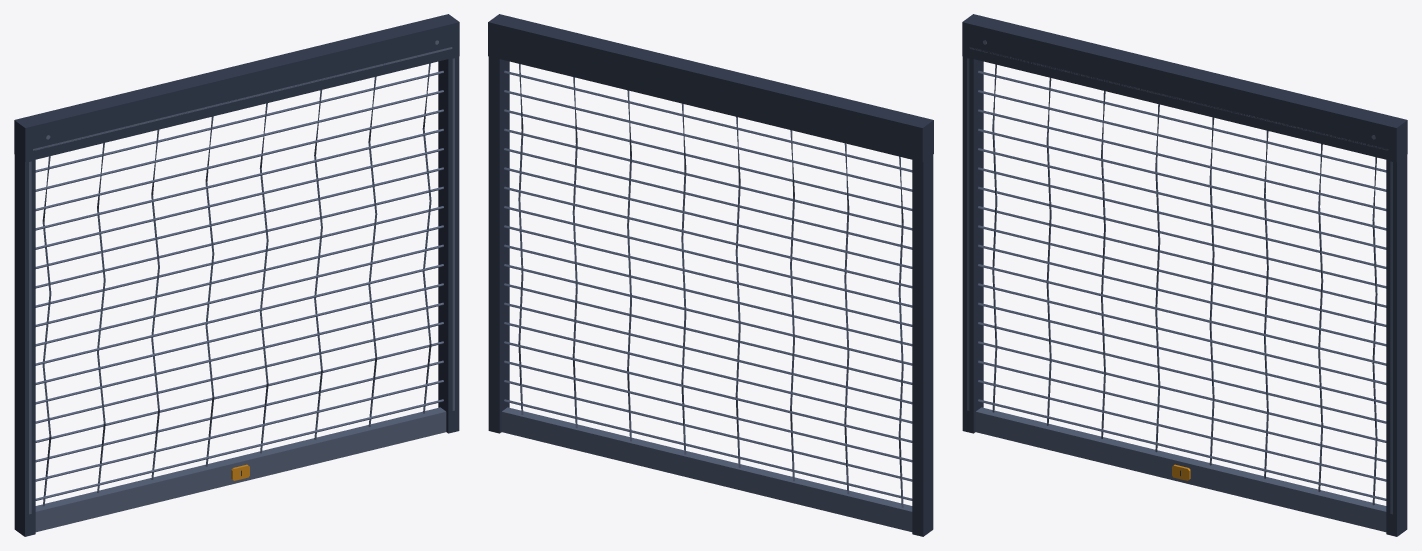
The model's file is mall_shutter_grille.glb.
3 views of the same model, side by side, from view 1: azimuth 30°, elevation 25°; view 2: azimuth 150°, elevation 25°; view 3: azimuth 330°, elevation 25° (orthographic).
Parts seen in each view (by area): view 1: guide_lip, guide, cover_fastener; view 2: guide_lip, guide; view 3: guide_lip, guide, cover_fastener.
Part boxes in pixels (box(x1,y1,x2,y2)): guide_lip: box(29, 58, 454, 532); guide: box(14, 14, 459, 536); cover_fastener: box(33, 40, 452, 150); guide_lip: box(501, 64, 912, 531); guide: box(488, 14, 933, 536); guide_lip: box(967, 58, 1392, 532); guide: box(962, 14, 1407, 536); cover_fastener: box(969, 40, 1388, 150).
Size of the model in its own units: 4 by 3.6 by 0.18.
